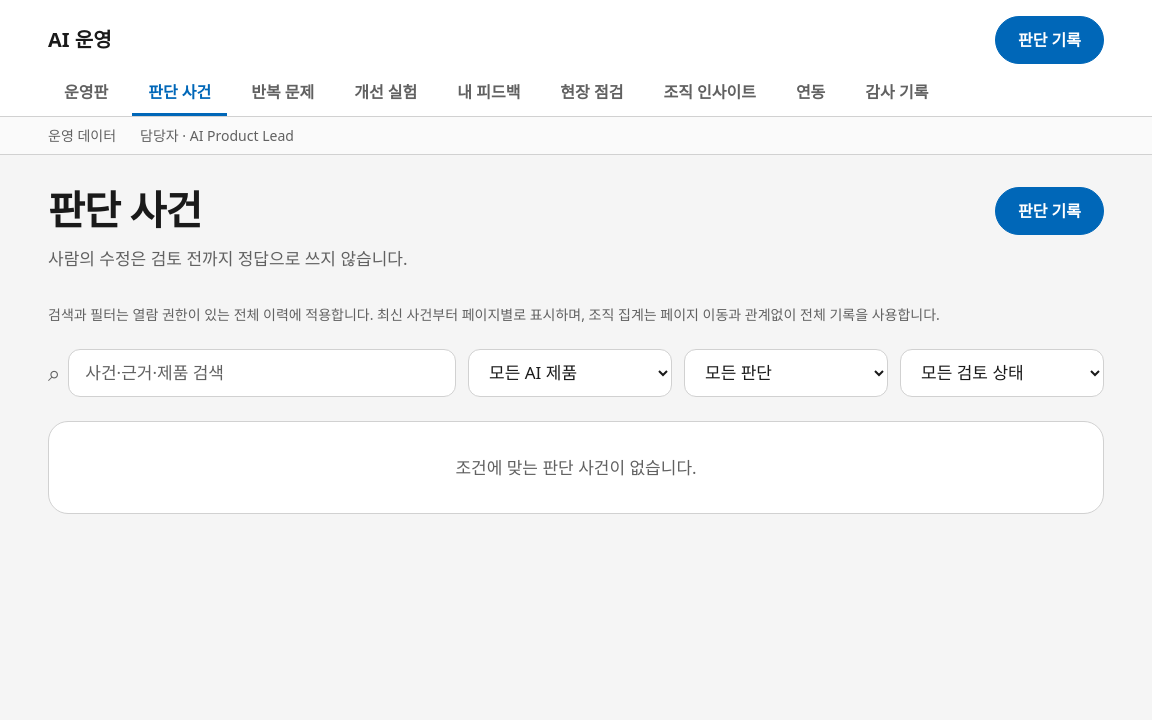
it: 필수 업무 흐름 화면 › 제보 전용 제품 목록은 전체 운영 자료 접근 없이 선택할 수 있다
Click the 1st button "판단 기록": (1050, 40) [995, 16, 1104, 64]
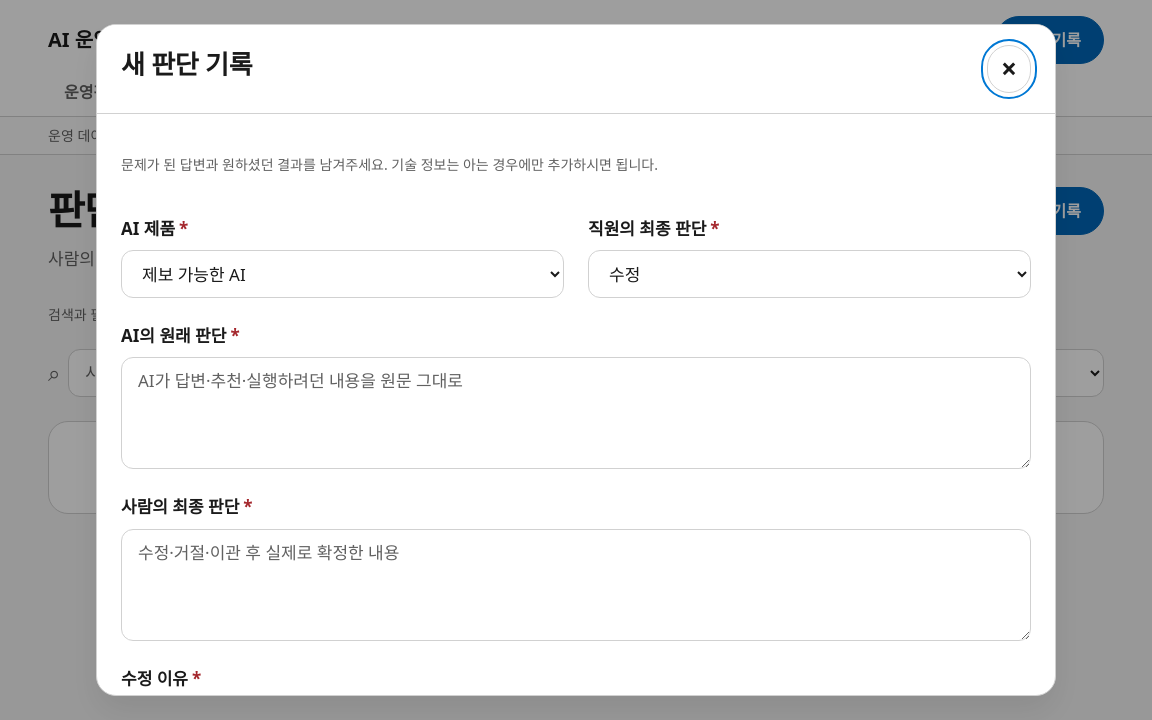
Now the dropdown named "productId" shows "제보 가능한 AI", box [121, 250, 564, 298]
